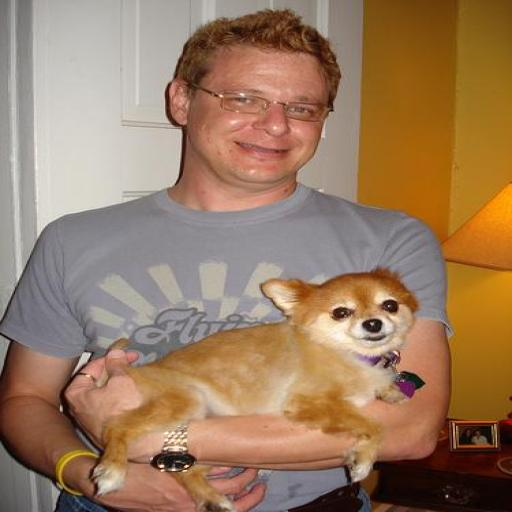dog_face: (275, 270, 416, 358)
